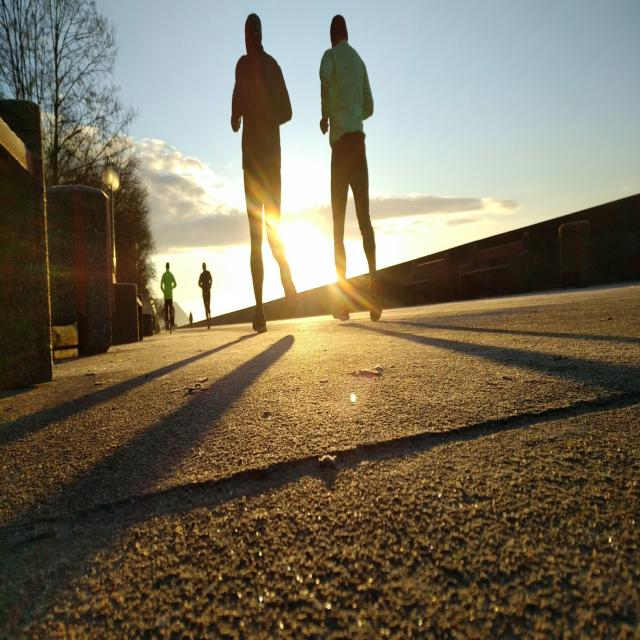adult: (229, 13, 303, 328), (320, 12, 385, 325), (161, 262, 176, 334), (198, 262, 214, 328)
